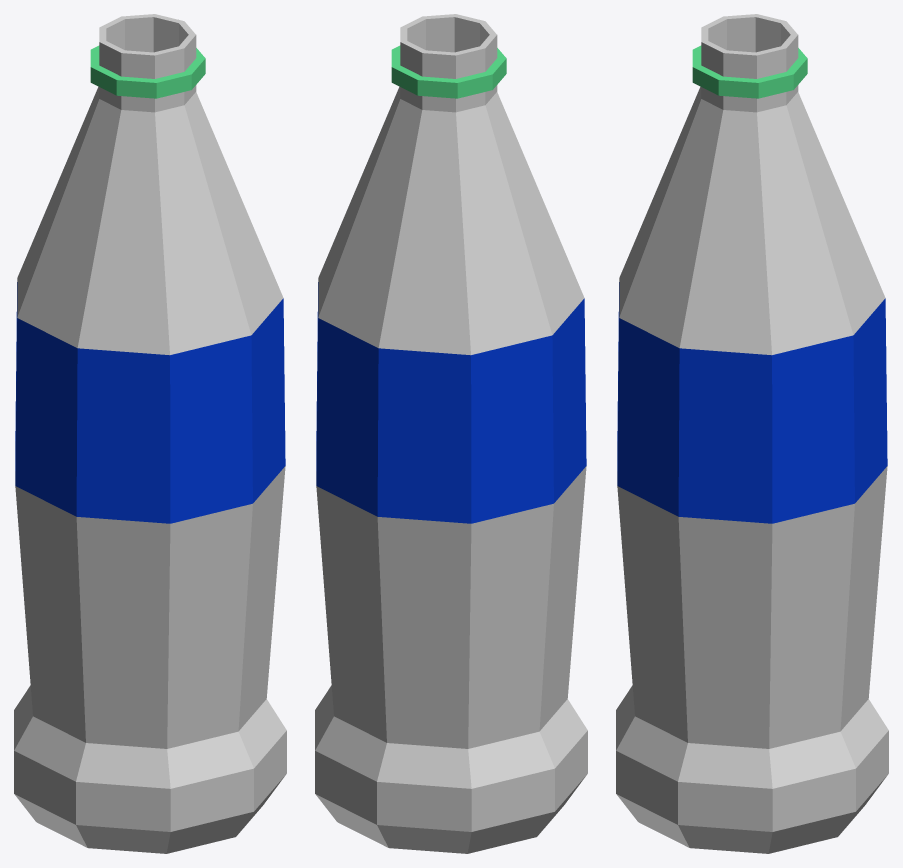
File: Soda bottle 1.fbx
3 views of the same model, side by side, from view 1: azimuth 30°, elevation 25°; view 2: azimuth 150°, elevation 25°; view 3: azimuth 270°, elevation 25° (orthographic).
Parts seen in each view (by area): view 1: Cylinder.003; view 2: Cylinder.003; view 3: Cylinder.003.
Boxes of the visible parts, box(x1,y1,x2,y2) form: Cylinder.003: box(14, 14, 286, 853); Cylinder.003: box(315, 14, 587, 853); Cylinder.003: box(616, 14, 888, 853).
Size of the model in its own units: 5.36 by 16.46 by 5.28.
